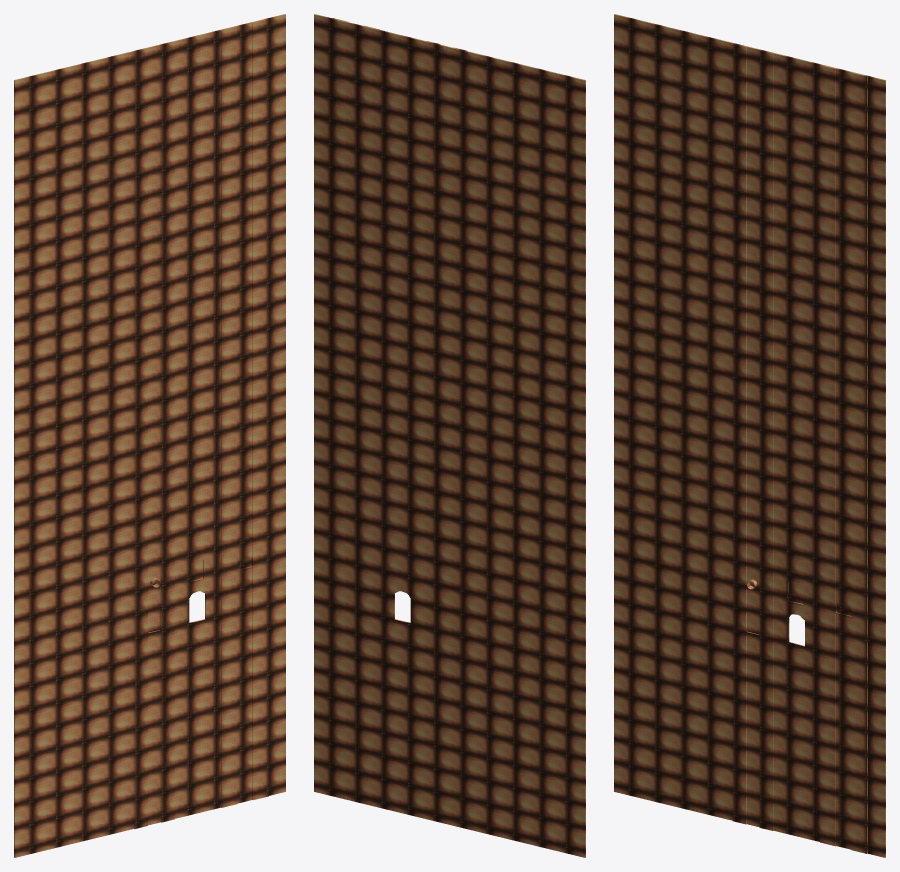
Rendered from env_st_salle_2_Mur_2.fbx.
3 views of the same model, side by side, from view 1: azimuth 30°, elevation 25°; view 2: azimuth 150°, elevation 25°; view 3: azimuth 330°, elevation 25° (orthographic).
Visible parts, largest first — view 1: Salle_1_Contour001; view 2: Salle_1_Contour001; view 3: Salle_1_Contour001.
Boxes of the visible parts, x1=… form: Salle_1_Contour001: x1=14, y1=14, x2=285, y2=857; Salle_1_Contour001: x1=314, y1=14, x2=585, y2=857; Salle_1_Contour001: x1=614, y1=14, x2=885, y2=857.
Bounding box in the file's own units: 5778 × 15823 × 138.
